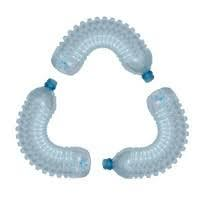Plastic bottle: (37, 12, 175, 84), (13, 69, 95, 185), (104, 89, 190, 190)
